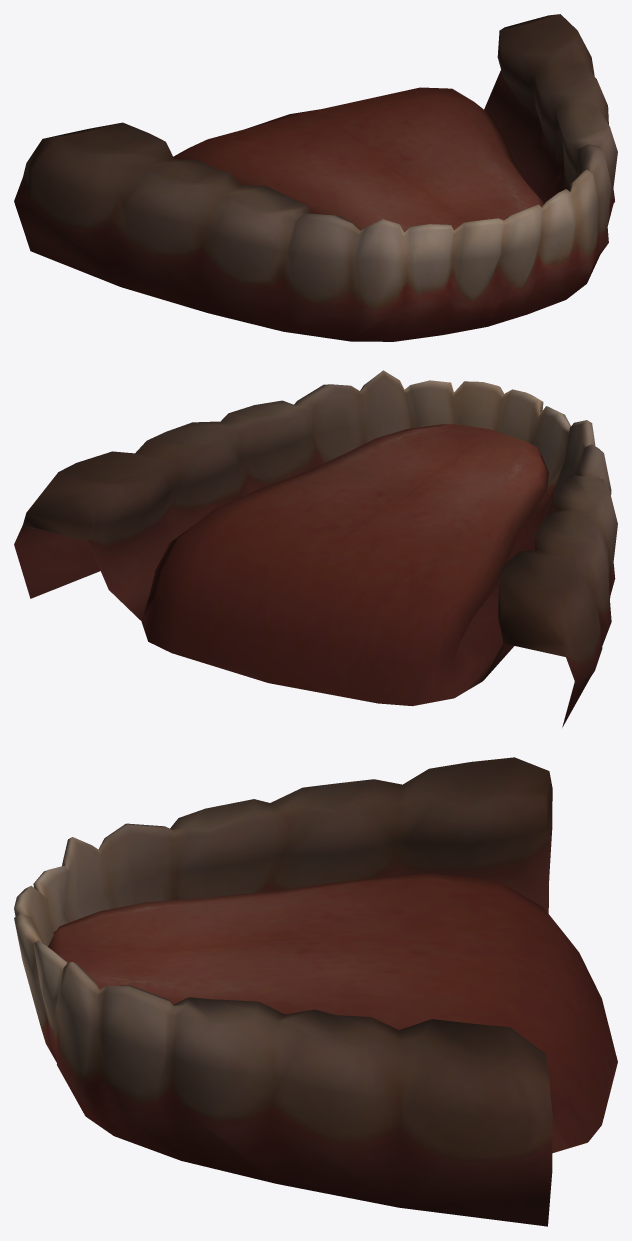
The model's file is Uth_Teeth_Lo_GrpShape.obj.
The picture shows the model from 3 angles, top to bottom: view 1: azimuth 30°, elevation 25°; view 2: azimuth 150°, elevation 25°; view 3: azimuth 270°, elevation 25°; orthographic projection. The views are drawn at different scales.
Parts seen in each view (by area): view 1: Uth_Teeth_Lo_Grp Head_Grp SkinnedMesh Mesh CharacterRoot; view 2: Uth_Teeth_Lo_Grp Head_Grp SkinnedMesh Mesh CharacterRoot; view 3: Uth_Teeth_Lo_Grp Head_Grp SkinnedMesh Mesh CharacterRoot.
Part boxes in pixels (x1,y1,x2,y2): Uth_Teeth_Lo_Grp Head_Grp SkinnedMesh Mesh CharacterRoot: (14,14,617,341); Uth_Teeth_Lo_Grp Head_Grp SkinnedMesh Mesh CharacterRoot: (14,370,617,727); Uth_Teeth_Lo_Grp Head_Grp SkinnedMesh Mesh CharacterRoot: (14,757,617,1226).
Size of the model in its own units: 8.53 by 1.9 by 6.32.
Materials: 1 (1 with a texture image).
